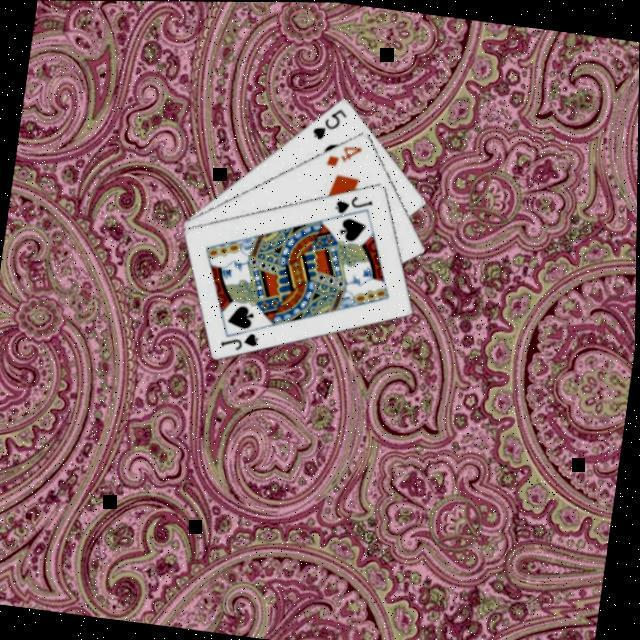4D: (322, 137, 364, 171)
5S: (308, 100, 350, 142)
JS: (330, 188, 376, 218), (217, 324, 262, 354)
